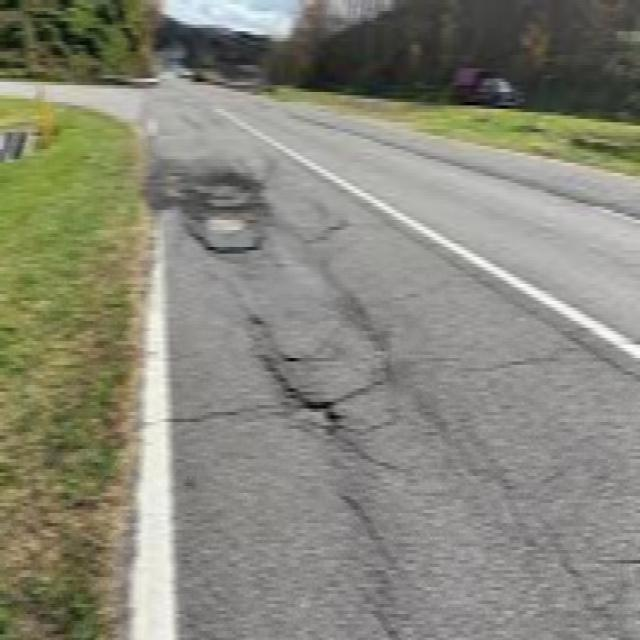Pothole: (222, 248, 411, 458), (145, 147, 291, 260)
